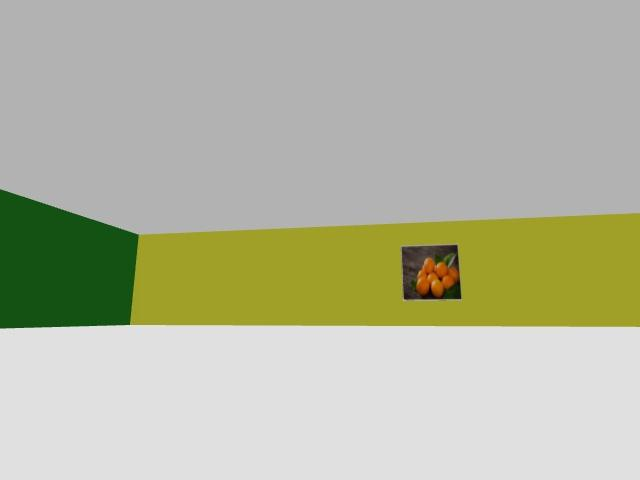orange: (430, 280, 444, 298), (416, 277, 429, 296), (442, 275, 455, 290), (435, 262, 447, 278), (423, 257, 434, 273), (448, 267, 459, 282), (427, 272, 438, 283), (417, 269, 426, 278), (422, 265, 430, 274), (418, 268, 426, 277), (417, 269, 425, 276)
